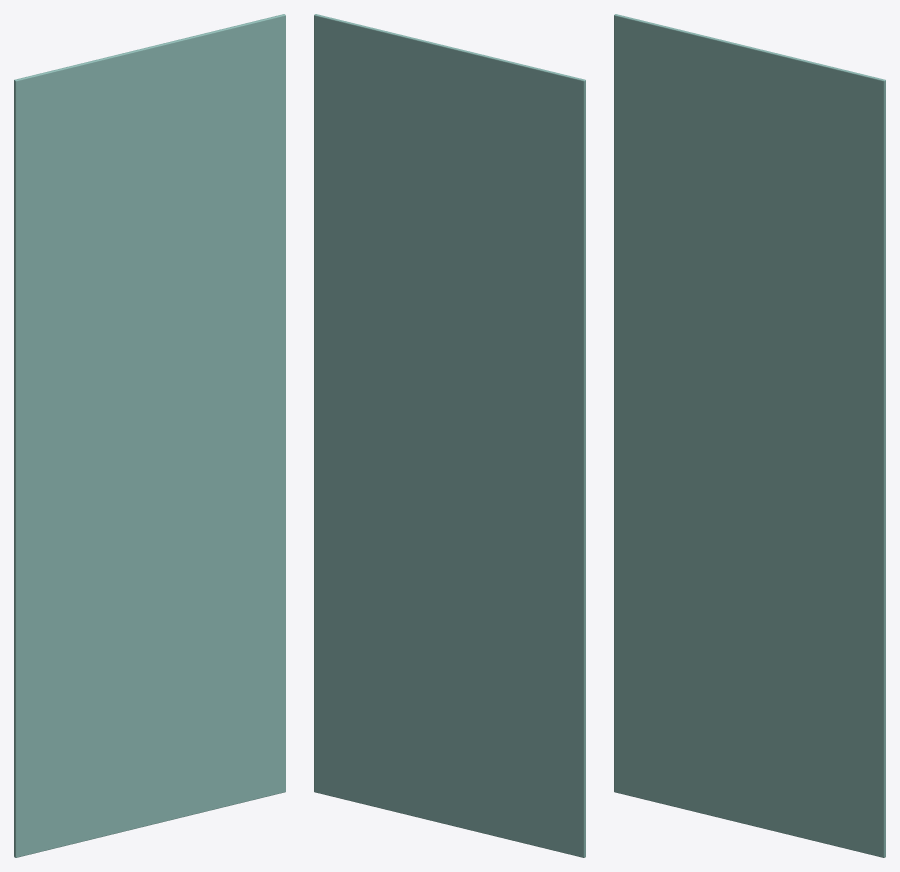
File: GLASS_Windows15.FBX
3 views of the same model, side by side, from view 1: azimuth 30°, elevation 25°; view 2: azimuth 150°, elevation 25°; view 3: azimuth 330°, elevation 25° (orthographic).
Parts seen in each view (by area): view 1: GLASS_Windows15; view 2: GLASS_Windows15; view 3: GLASS_Windows15.
Part boxes in pixels (x1,y1,x2,y2): GLASS_Windows15: [14, 14, 285, 857]; GLASS_Windows15: [314, 14, 585, 857]; GLASS_Windows15: [614, 14, 885, 857].
Bounding box in the file's own units: 88.02 × 1 × 242.
